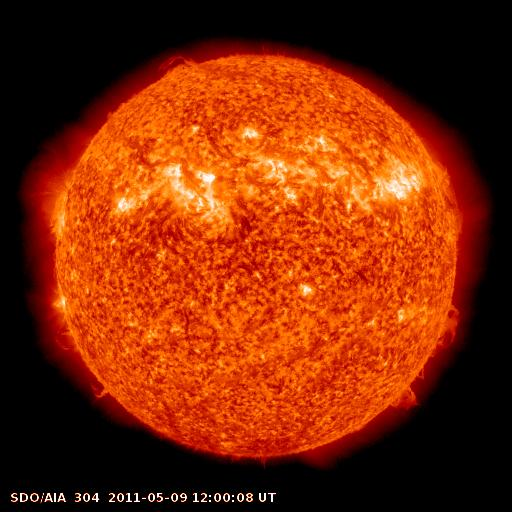prominence: (428, 154, 470, 246), (383, 365, 437, 420), (428, 299, 470, 360), (158, 43, 203, 86), (54, 316, 87, 360), (82, 377, 118, 409)
